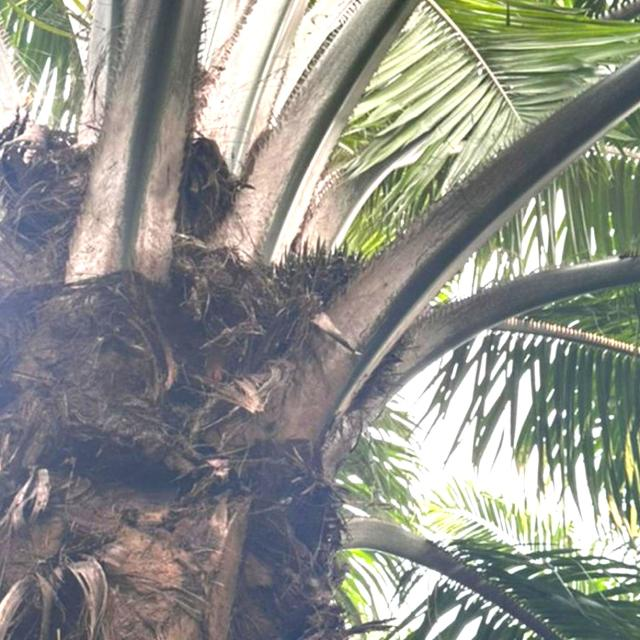unripe: (229, 229, 425, 418)
